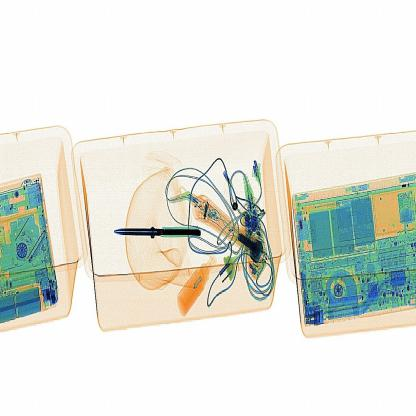gun: (104, 219, 207, 246)
